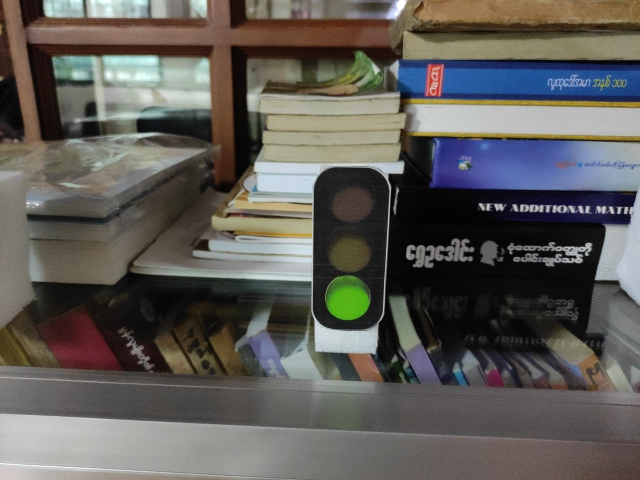Green Traffic Light: (312, 164, 391, 331)
